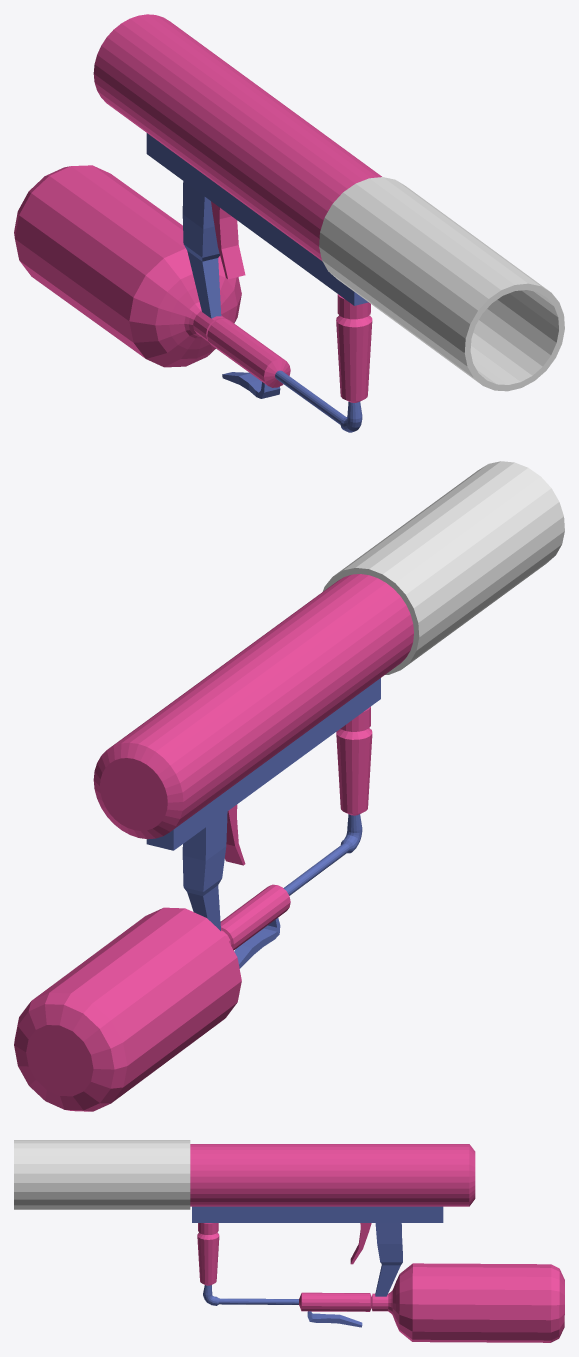
Rendered from Gun.fbx.
3 views of the same model, one above another, from view 1: azimuth 30°, elevation 25°; view 2: azimuth 150°, elevation 25°; view 3: azimuth 270°, elevation 25° (orthographic). The views are drawn at different scales.
Visible parts, largest first — view 1: Plane; view 2: Plane; view 3: Plane.
Part boxes in pixels (x1,y1,x2,y2): Plane: (14, 14, 564, 432); Plane: (14, 461, 564, 1111); Plane: (14, 1140, 564, 1342).
Size of the model in its own units: 63.31 by 174 by 443.
